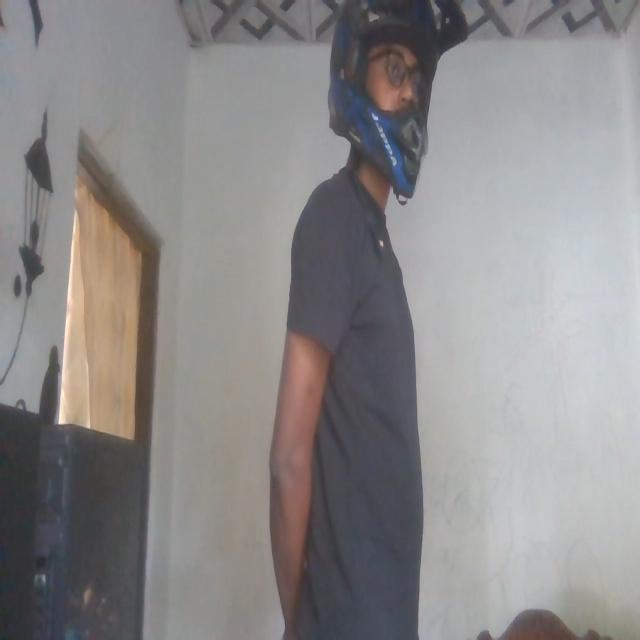Helmet_Wearer: (330, 0, 466, 213)
Person: (264, 1, 468, 621)
